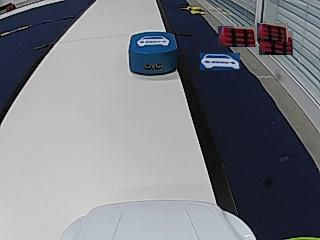safety: (137, 35, 171, 47)
